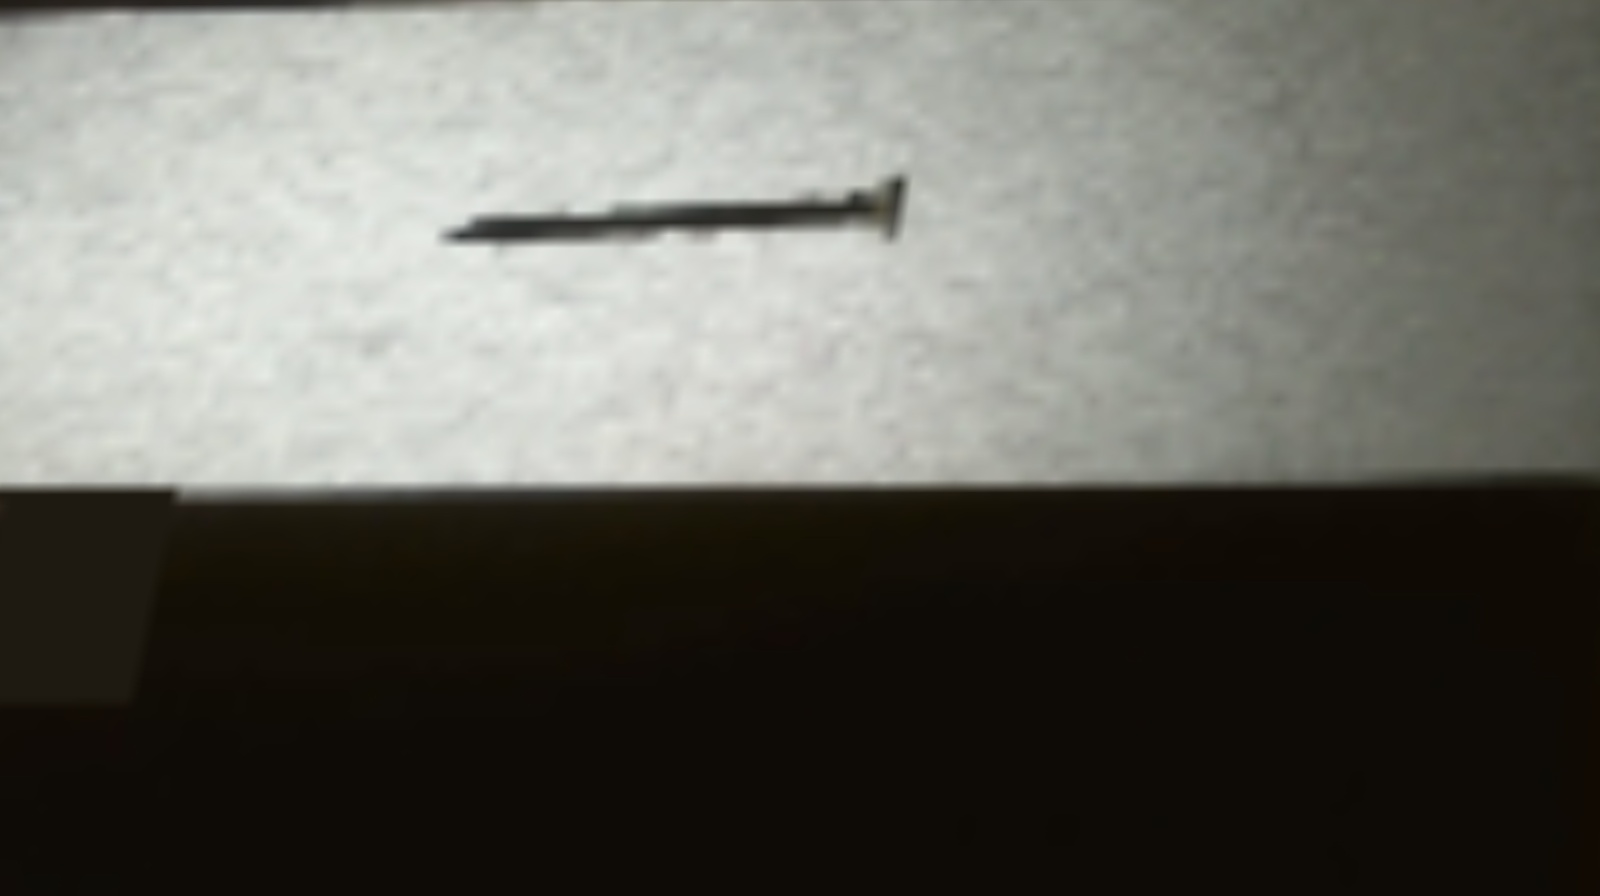S002: (410, 167, 940, 267)
